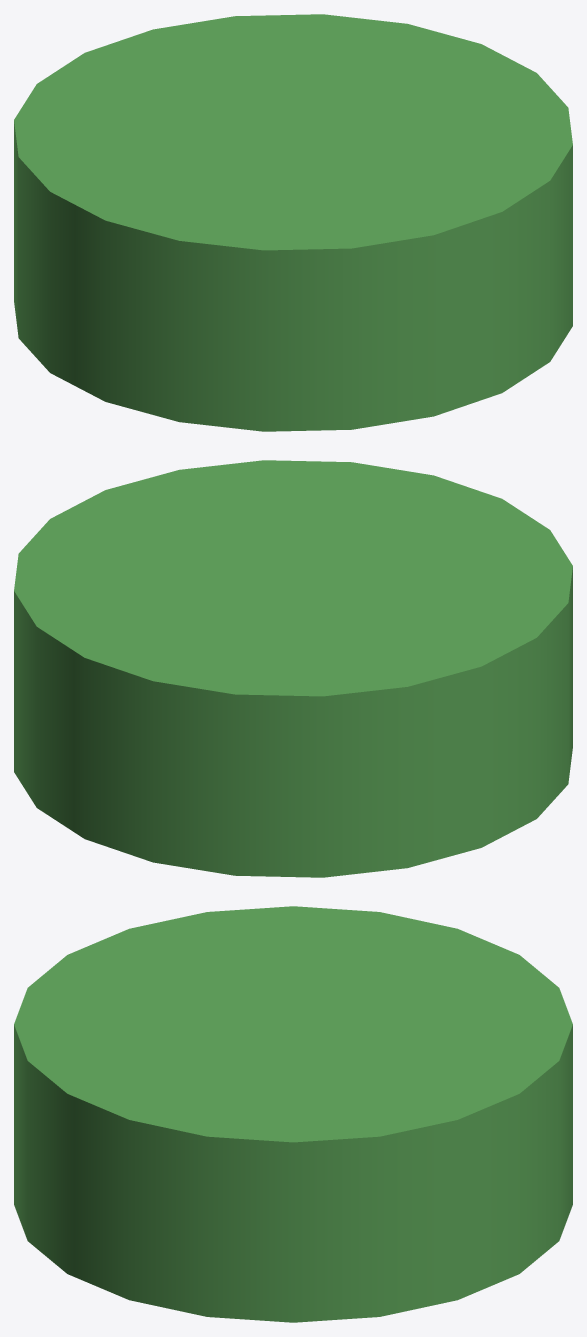
File: Verde.fbx
3 renders of one model, top to bottom at view 1: azimuth 30°, elevation 25°; view 2: azimuth 150°, elevation 25°; view 3: azimuth 270°, elevation 25°, orthographic.
Parts seen in each view (by area): view 1: pCylinder15; view 2: pCylinder15; view 3: pCylinder15.
Boxes of the visible parts, left/top/right/bottom form: pCylinder15: left=14, top=14, right=572, bottom=431; pCylinder15: left=14, top=460, right=572, bottom=877; pCylinder15: left=14, top=906, right=572, bottom=1322.
Size of the model in its own units: 114 by 40.47 by 114.
